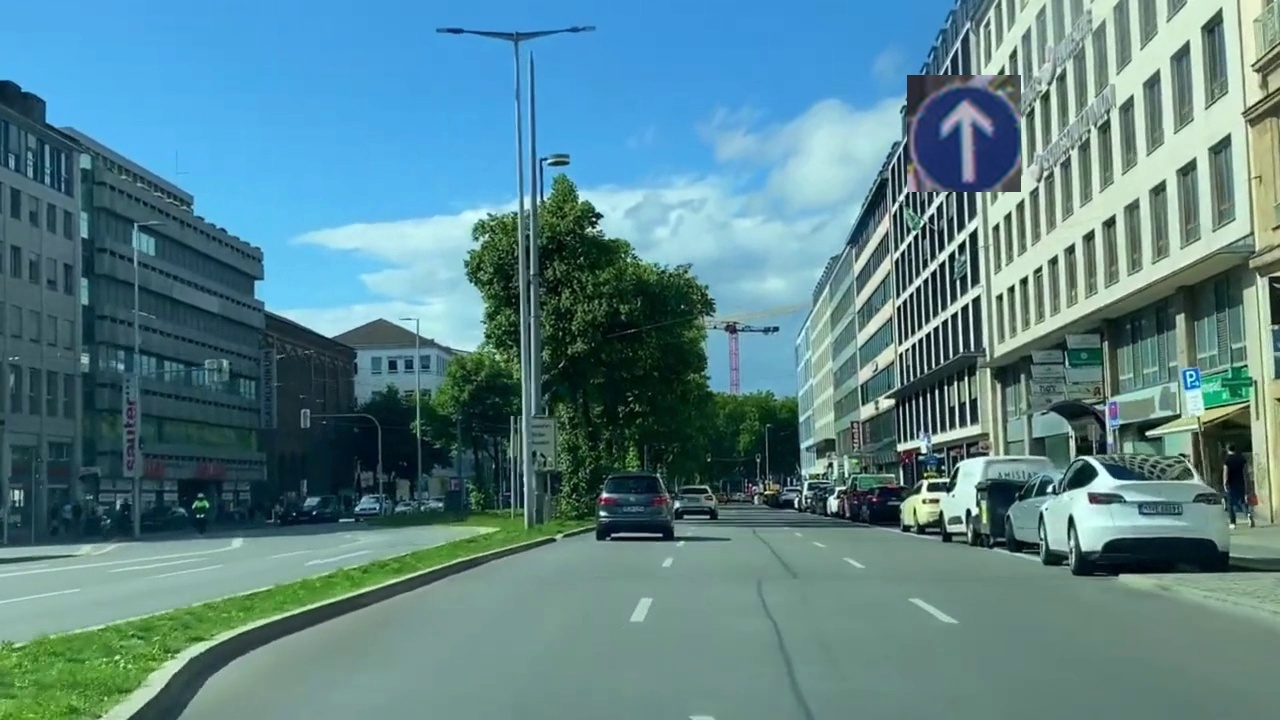Ahead only: (907, 75, 1021, 192)
